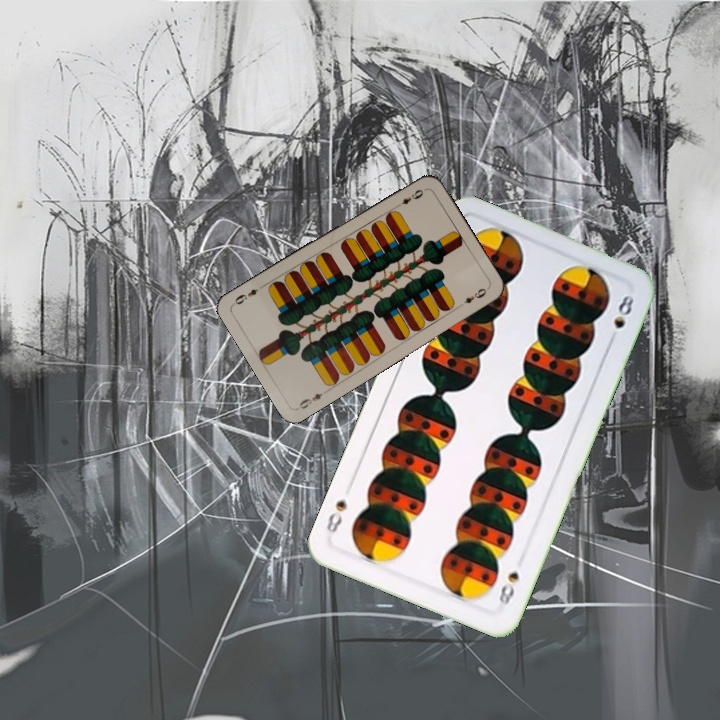E9: (391, 184, 428, 211), (295, 389, 326, 412)
S8: (494, 567, 522, 608)
